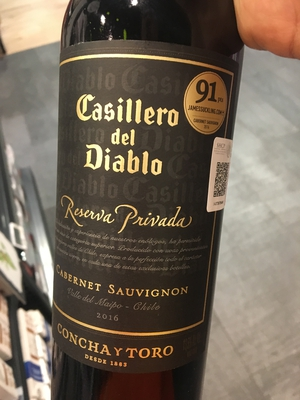casillero del diablo reserva privada cabernet sauvignon: (52, 8, 250, 399)
